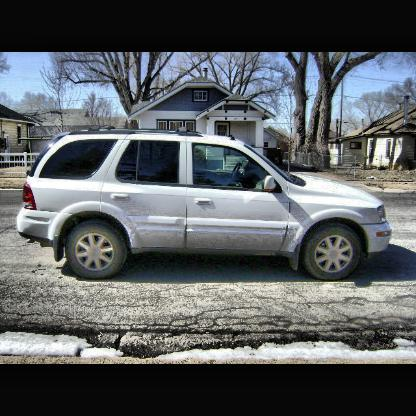Buick Rainier SUV 2007: (14, 127, 392, 283)
